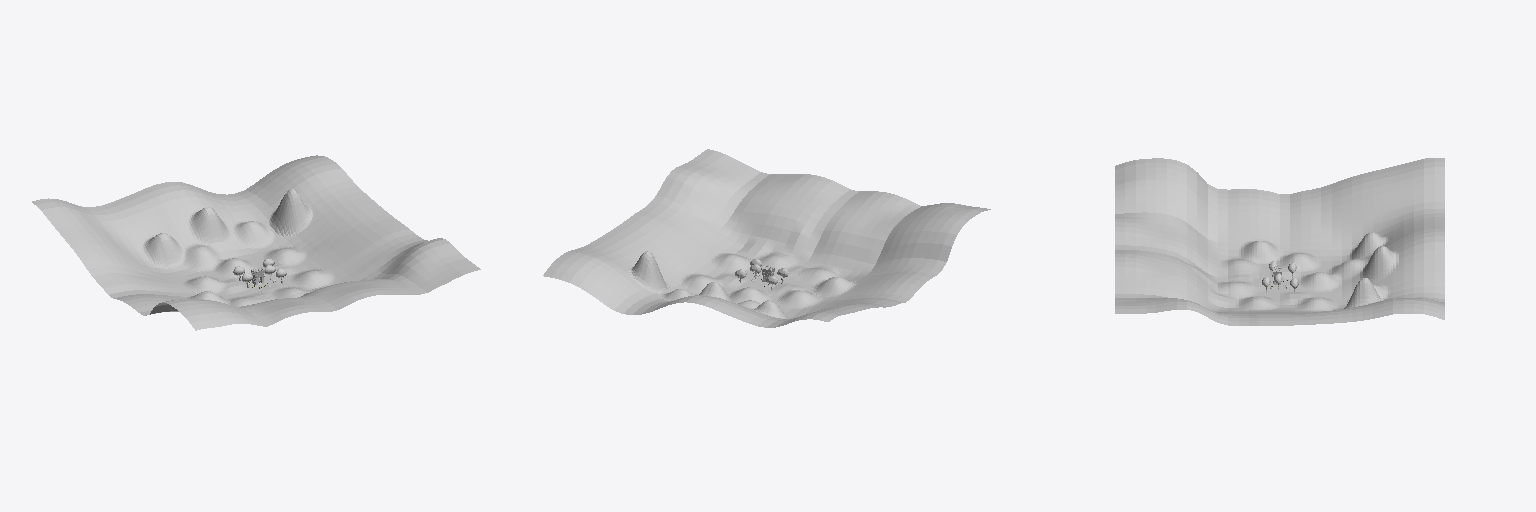
File: house.obj
3 renders of one model, left to right at view 1: azimuth 30°, elevation 25°; view 2: azimuth 150°, elevation 25°; view 3: azimuth 270°, elevation 25°, orthographic.
Visible parts, largest first — view 1: floor; view 2: floor; view 3: floor.
Boxes of the visible parts, x1,y1,x2,y2 form: floor: [32, 155, 480, 330]; floor: [543, 149, 990, 327]; floor: [1115, 158, 1444, 325].
Size of the model in its own units: 139 by 26.79 by 139.